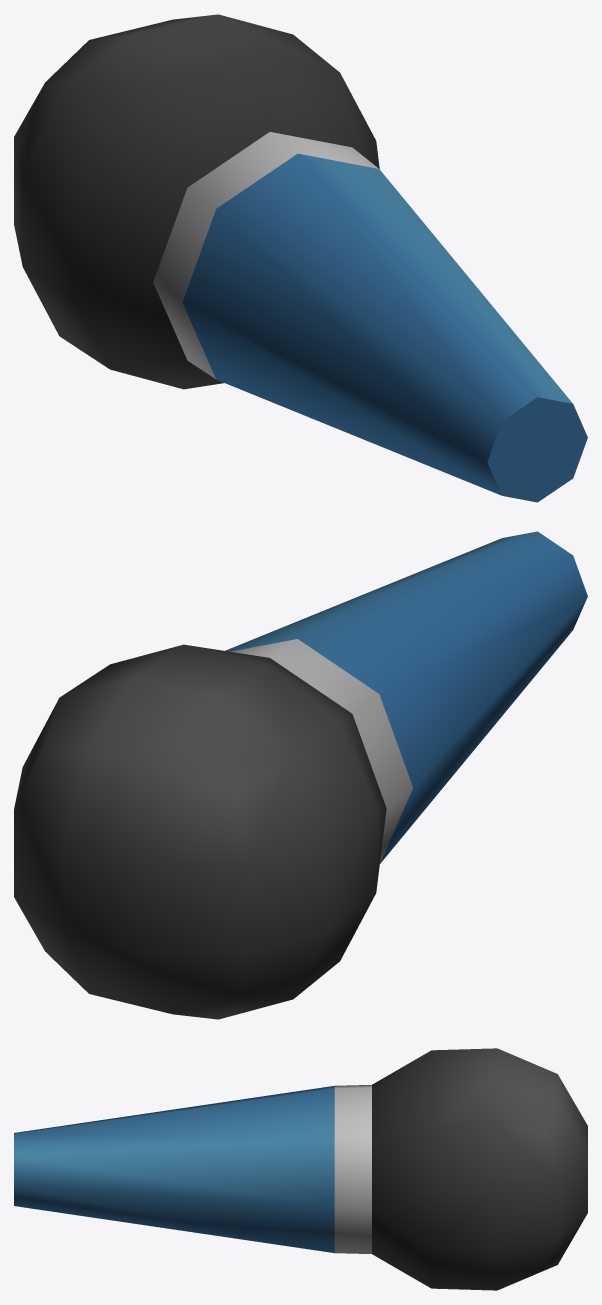
The model's file is Microphone.fbx.
3 renders of one model, top to bottom at view 1: azimuth 30°, elevation 25°; view 2: azimuth 150°, elevation 25°; view 3: azimuth 270°, elevation 25°, orthographic. The views are drawn at different scales.
Visible parts, largest first — view 1: Microphone; view 2: Microphone; view 3: Microphone.
Boxes of the visible parts, box(x1,y1,x2,y2) form: Microphone: box(14, 14, 587, 502); Microphone: box(14, 531, 587, 1019); Microphone: box(14, 1048, 587, 1290).
Bounding box in the file's own units: 11.35 × 11.35 × 27.51.
